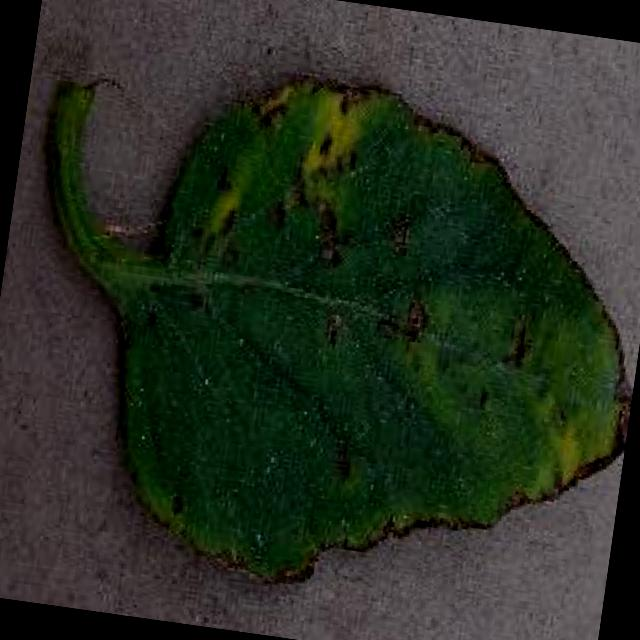bacterial spot: (46, 79, 626, 587)
